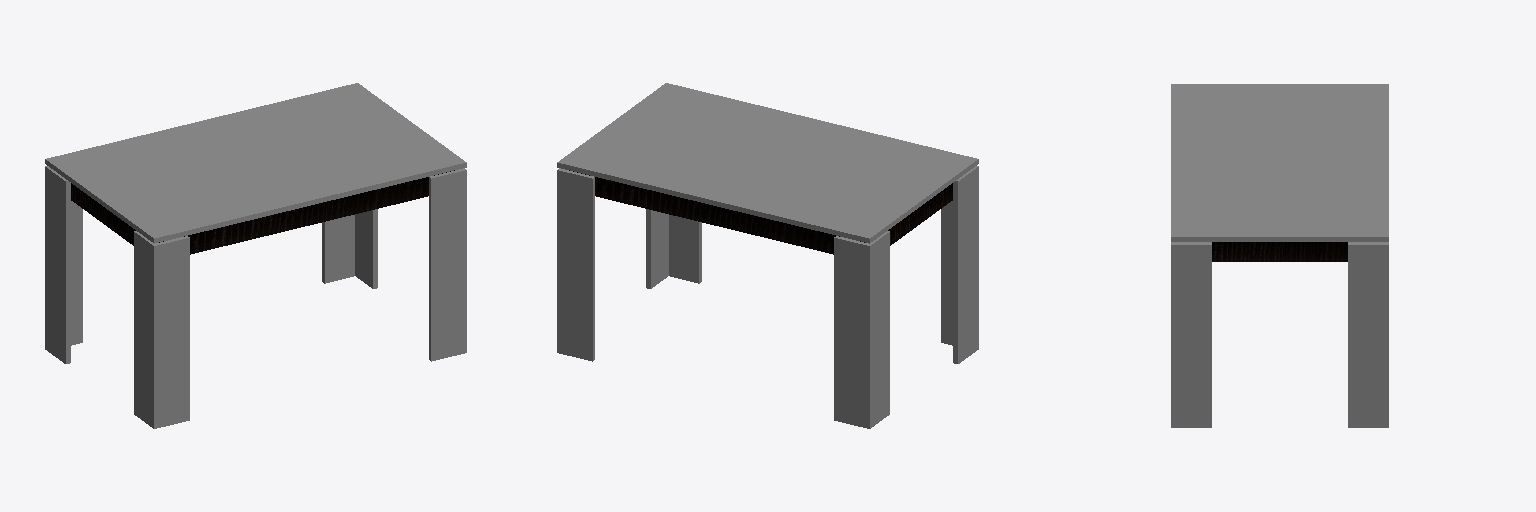
The picture shows the model from 3 angles: view 1: azimuth 30°, elevation 25°; view 2: azimuth 150°, elevation 25°; view 3: azimuth 270°, elevation 25°; orthographic projection.
Parts seen in each view (by area): view 1: Box001, Rectangle002, Rectangle001; view 2: Box001, Rectangle002, Rectangle001; view 3: Box001, Rectangle002, Rectangle001.
Part boxes in pixels (left/top/right/bottom): Box001: left=45, top=83, right=466, bottom=243; Rectangle002: left=45, top=166, right=466, bottom=428; Rectangle001: left=71, top=170, right=454, bottom=254; Box001: left=557, top=83, right=978, bottom=243; Rectangle002: left=557, top=166, right=978, bottom=428; Rectangle001: left=569, top=170, right=952, bottom=254; Box001: left=1171, top=84, right=1388, bottom=241; Rectangle002: left=1171, top=242, right=1388, bottom=427; Rectangle001: left=1212, top=242, right=1347, bottom=261.
Size of the model in its own units: 0.052 by 0.0303 by 0.0314.
Materials: 2 (1 with a texture image).